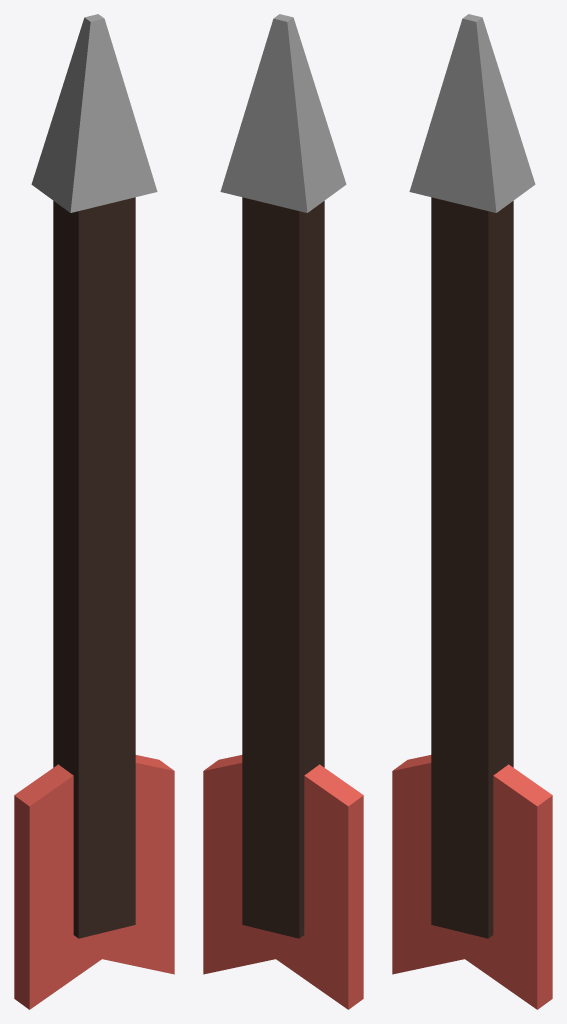
The model's file is arrow.fbx.
The picture shows the model from 3 angles, left to right: view 1: azimuth 30°, elevation 25°; view 2: azimuth 150°, elevation 25°; view 3: azimuth 330°, elevation 25°; orthographic projection.
Parts seen in each view (by area): view 1: Cube.002; view 2: Cube.002; view 3: Cube.002.
Part boxes in pixels (x1,y1,x2,y2): Cube.002: (14,14,174,1009); Cube.002: (203,14,363,1009); Cube.002: (392,14,552,1009).
Size of the model in its own units: 13.76 by 87.7 by 6.41.
